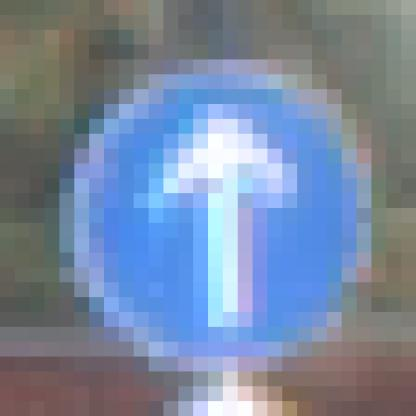AheadOnly: (75, 75, 343, 343)
